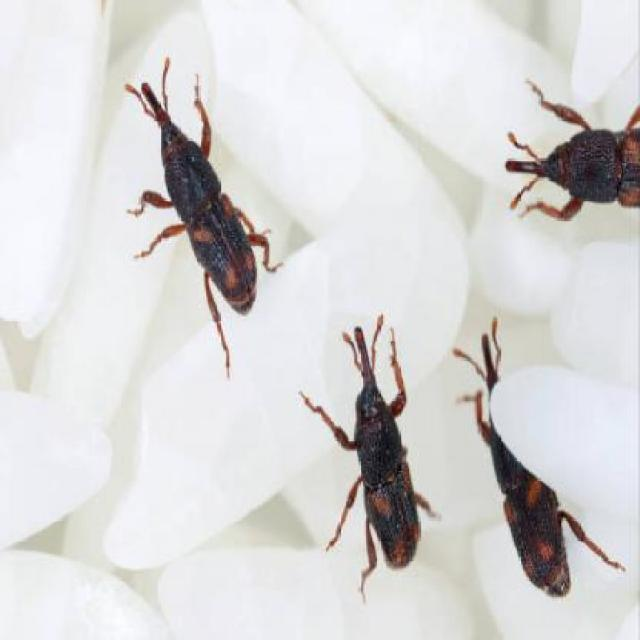rice-bug: (134, 64, 257, 318), (476, 323, 582, 599), (344, 318, 422, 571), (503, 86, 640, 212)
